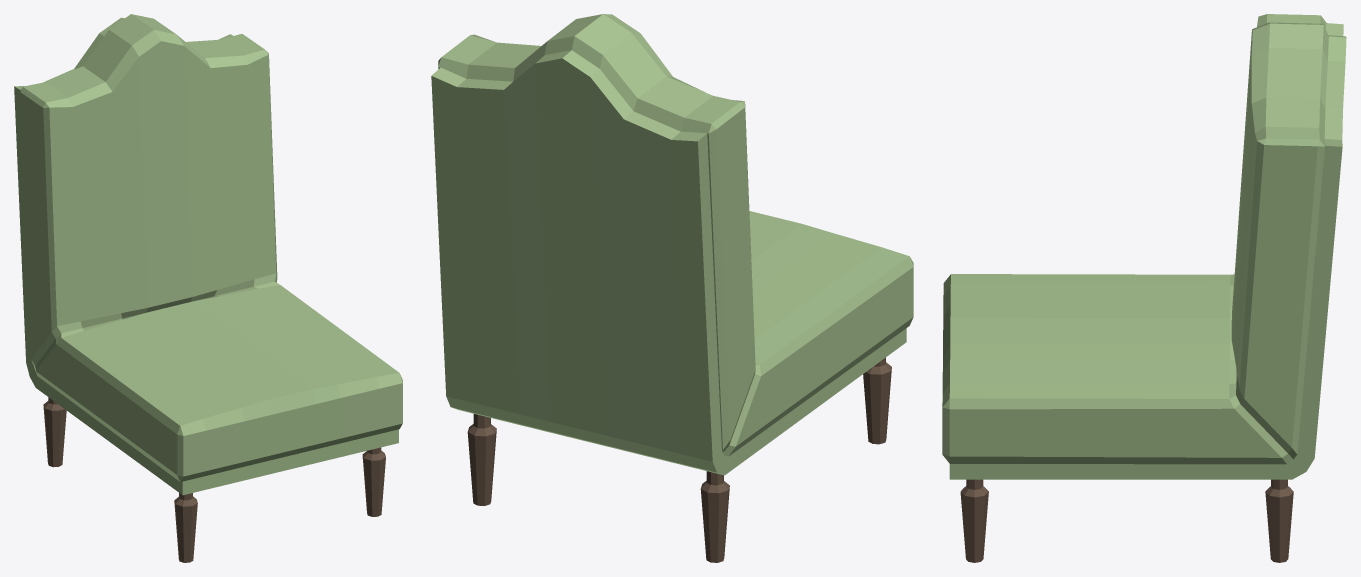
Rendered from Armchair_2.fbx.
The picture shows the model from 3 angles, left to right: view 1: azimuth 30°, elevation 25°; view 2: azimuth 150°, elevation 25°; view 3: azimuth 270°, elevation 25°; orthographic projection. The views are drawn at different scales.
Parts seen in each view (by area): view 1: Armchair_2; view 2: Armchair_2; view 3: Armchair_2.
Part boxes in pixels (x1,y1,x2,y2): Armchair_2: (14, 14, 402, 562); Armchair_2: (431, 14, 913, 562); Armchair_2: (942, 14, 1346, 562).
Size of the model in its own units: 77.41 by 103 by 135.
